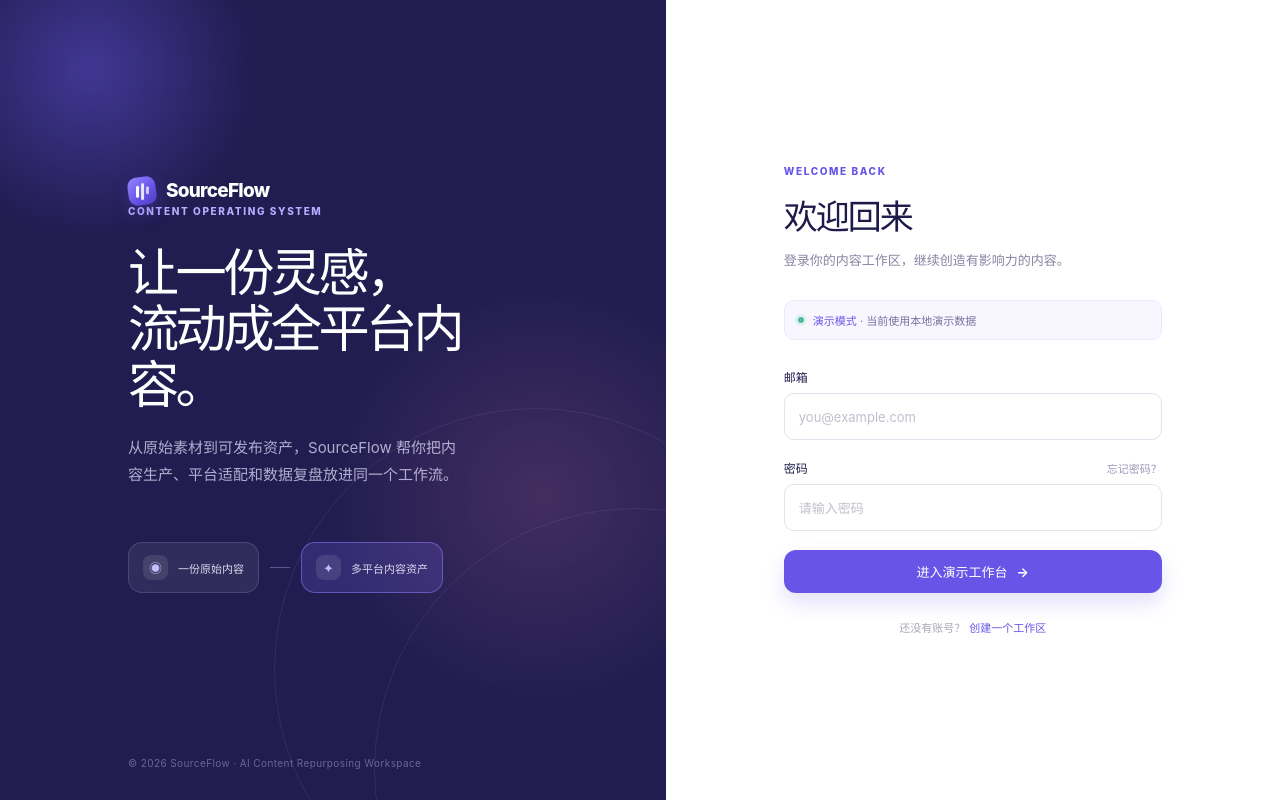
Test: SourceFlow Web 首屏 › 拒绝无效邮箱并保留登录页
In the field labelled "邮箱": (973, 416) [784,393,1162,440], type "creator"
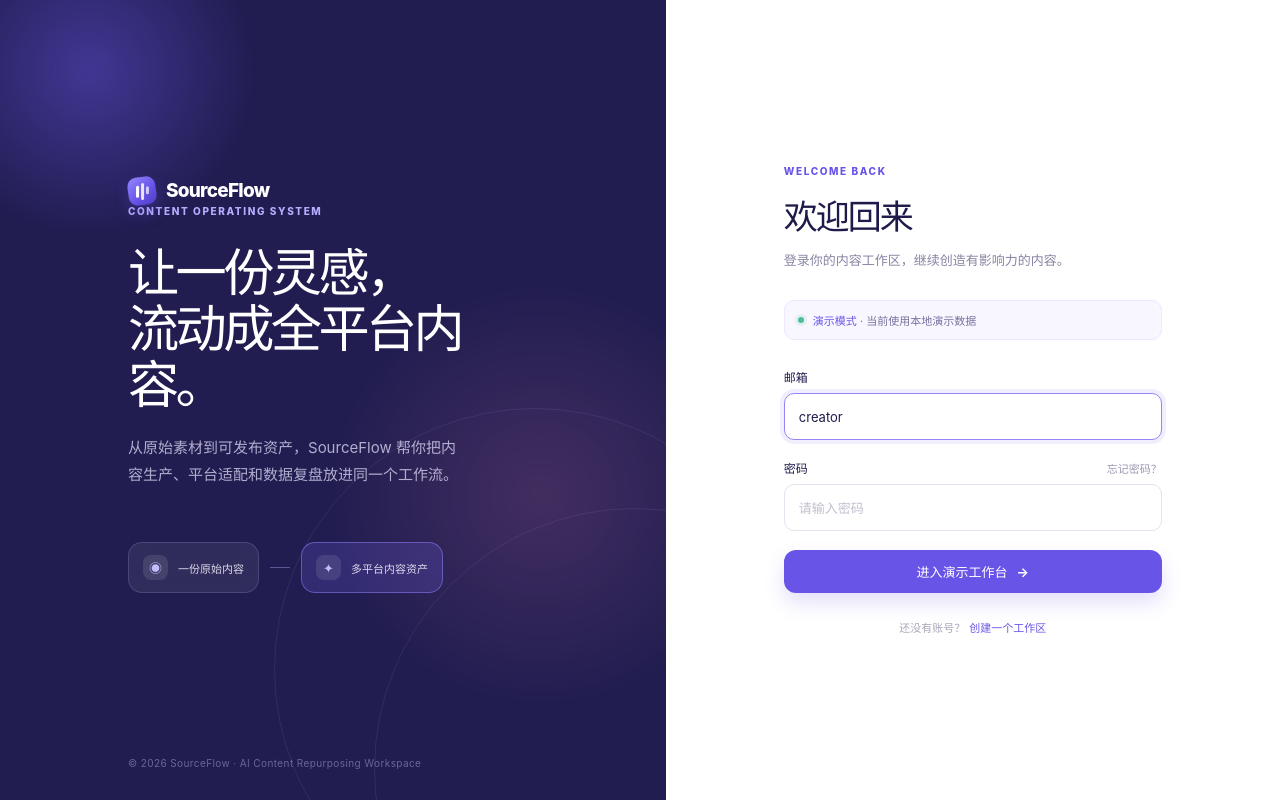
In the password field labelled "密码": (973, 508) [784,484,1162,531], type "sourceflow123"
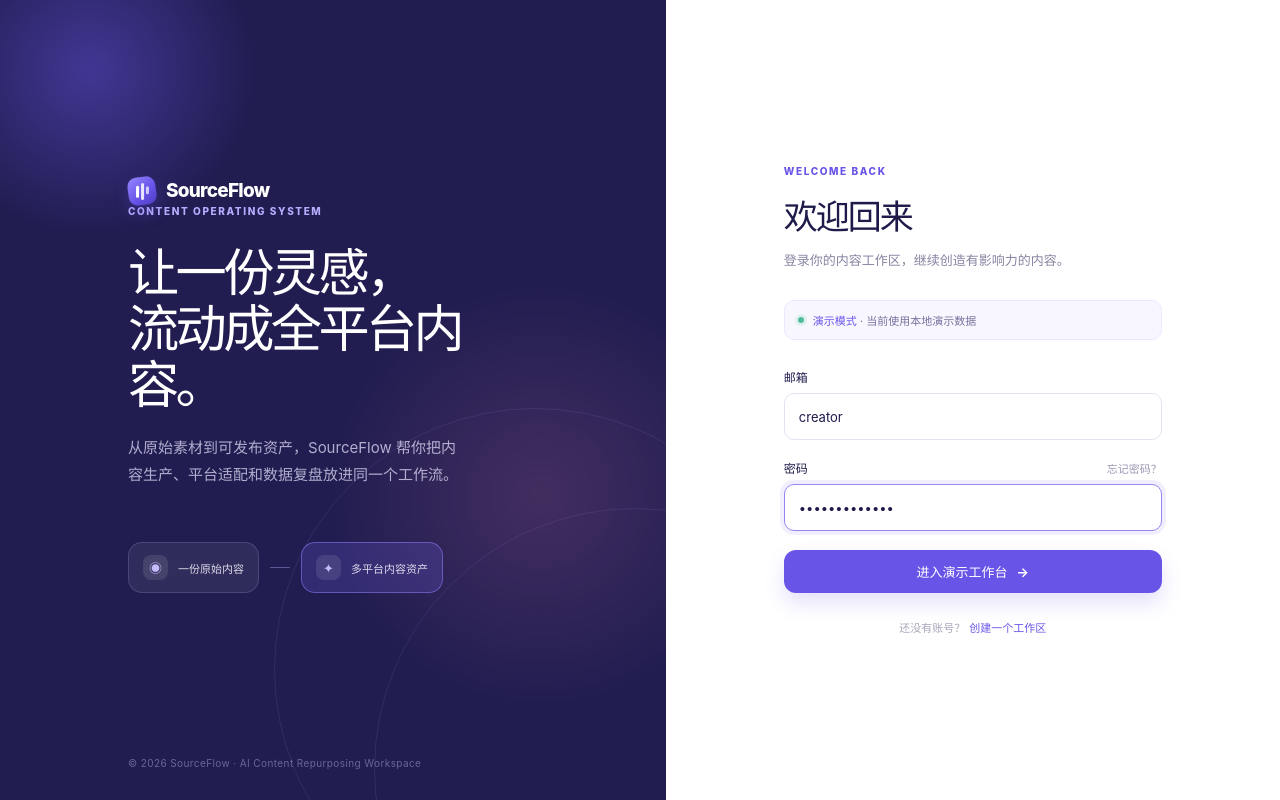
Click the button "进入演示工作台 →": (973, 572) [784,550,1162,593]
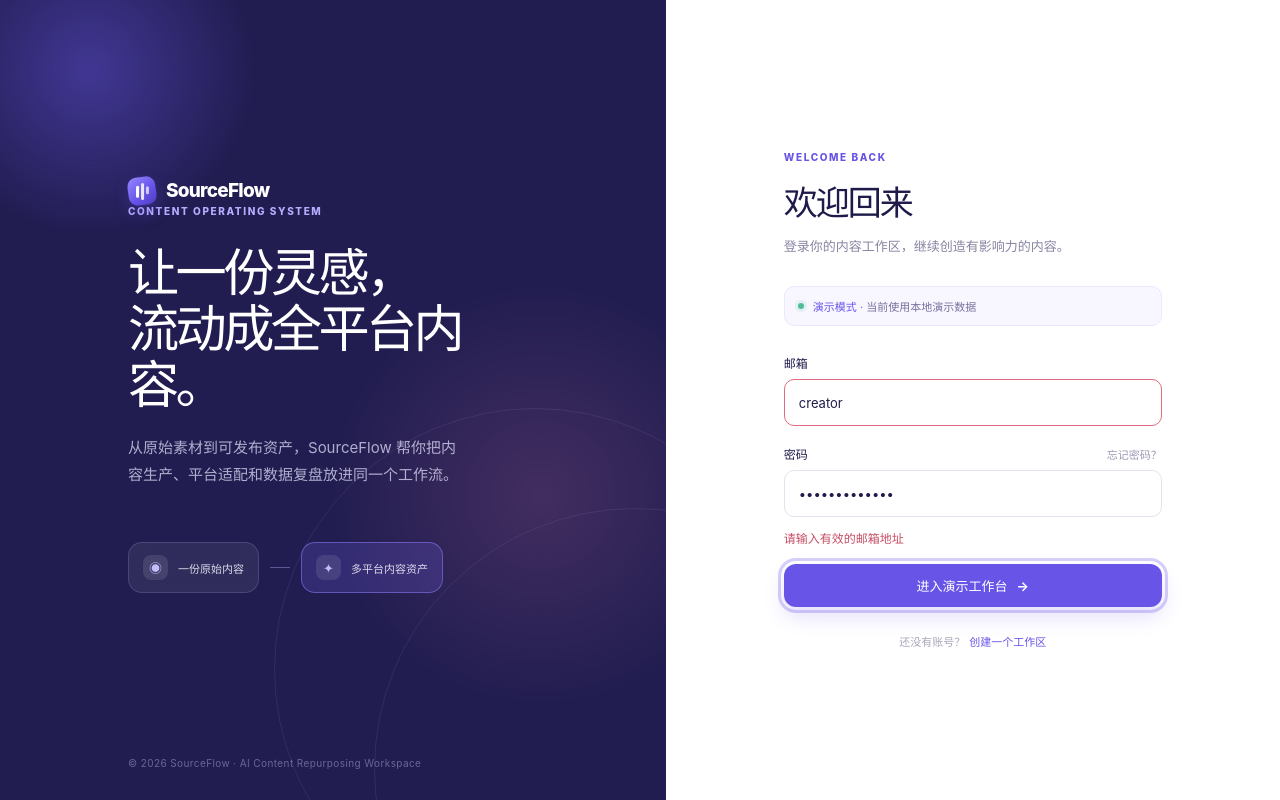
expect the heading "欢迎回来" is shown: met, box [784,182,912,223]
expect the message "请输入有效的邮箱地址" is shown: met, box [784,531,904,546]
